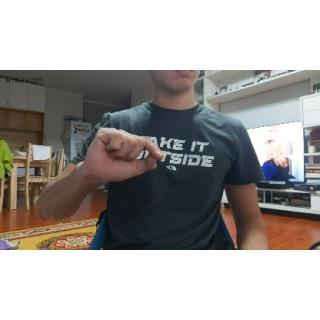FAA: (84, 123, 165, 182)
